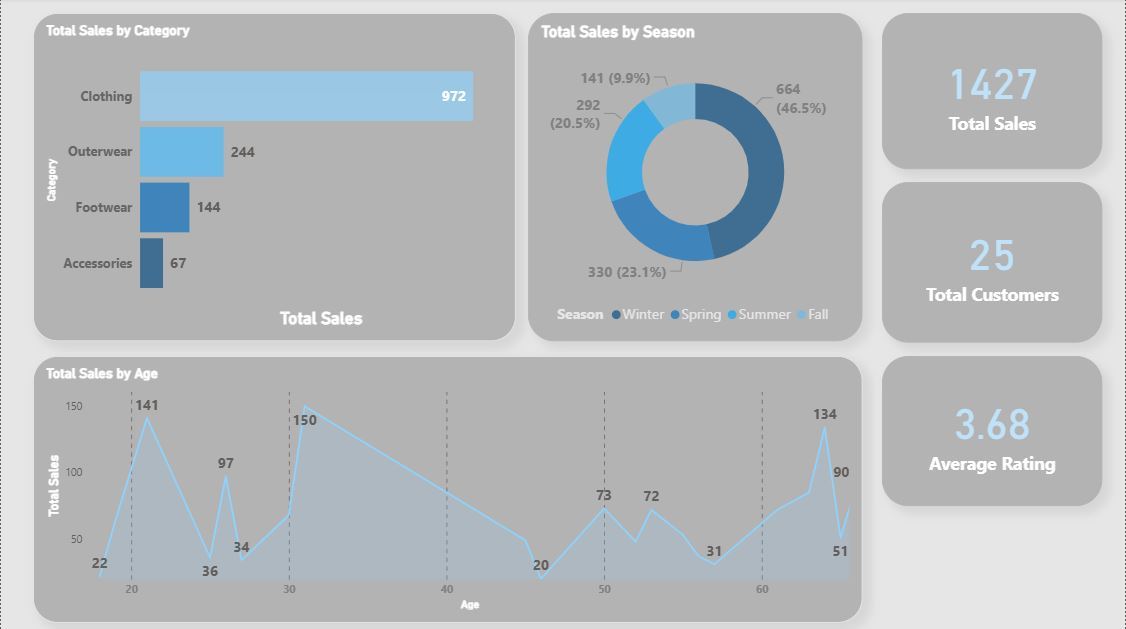

The dashboard page shown, as its layout file describes it:
{"tool":"powerbi","page":{"name":"Overview","canvas":[1280,720],"ordinal":0},"visuals":[{"type":"card","fields":{"Values":["Cleaned_Data.Customer Count"]},"box":[1003.8,210,251.2,182.5],"z":0},{"type":"card","fields":{"Values":["Cleaned_Data.Average Rating"]},"box":[1003.8,407.5,251.2,171.2],"z":1000},{"type":"card","fields":{"Values":["Cleaned_Data.Total Sales"]},"box":[1003.8,17.5,251.2,177.5],"z":2000},{"type":"barChart","fields":{"Category":["Cleaned_Data.Category"],"Y":["Cleaned_Data.Total Sales"]},"box":[36.2,17.5,550,373.8],"z":3000},{"type":"donutChart","fields":{"Y":["Cleaned_Data.Total Sales"],"Category":["Cleaned_Data.Season"]},"box":[600,17.5,381.2,373.8],"z":4000},{"type":"lineChart","fields":{"Y":["Sum(Cleaned_Data.Purchase_Amount_USD)"],"Category":["Cleaned_Data.Age"]},"box":[36.2,407.5,945,303.8],"z":5000}]}

Visuals, with their boxes in screenshot pixels (x1, y1, x2, y2), scaled from the page's 1280x720 canvas onto the 1126x629 screenshot:
card - Cleaned_Data.Customer Count: box(883, 183, 1104, 343)
card - Cleaned_Data.Average Rating: box(883, 356, 1104, 506)
card - Cleaned_Data.Total Sales: box(883, 15, 1104, 170)
barChart - Cleaned_Data.Category x Cleaned_Data.Total Sales: box(32, 15, 516, 342)
donutChart - Cleaned_Data.Total Sales x Cleaned_Data.Season: box(528, 15, 863, 342)
lineChart - Sum(Cleaned_Data.Purchase_Amount_USD) x Cleaned_Data.Age: box(32, 356, 863, 621)
